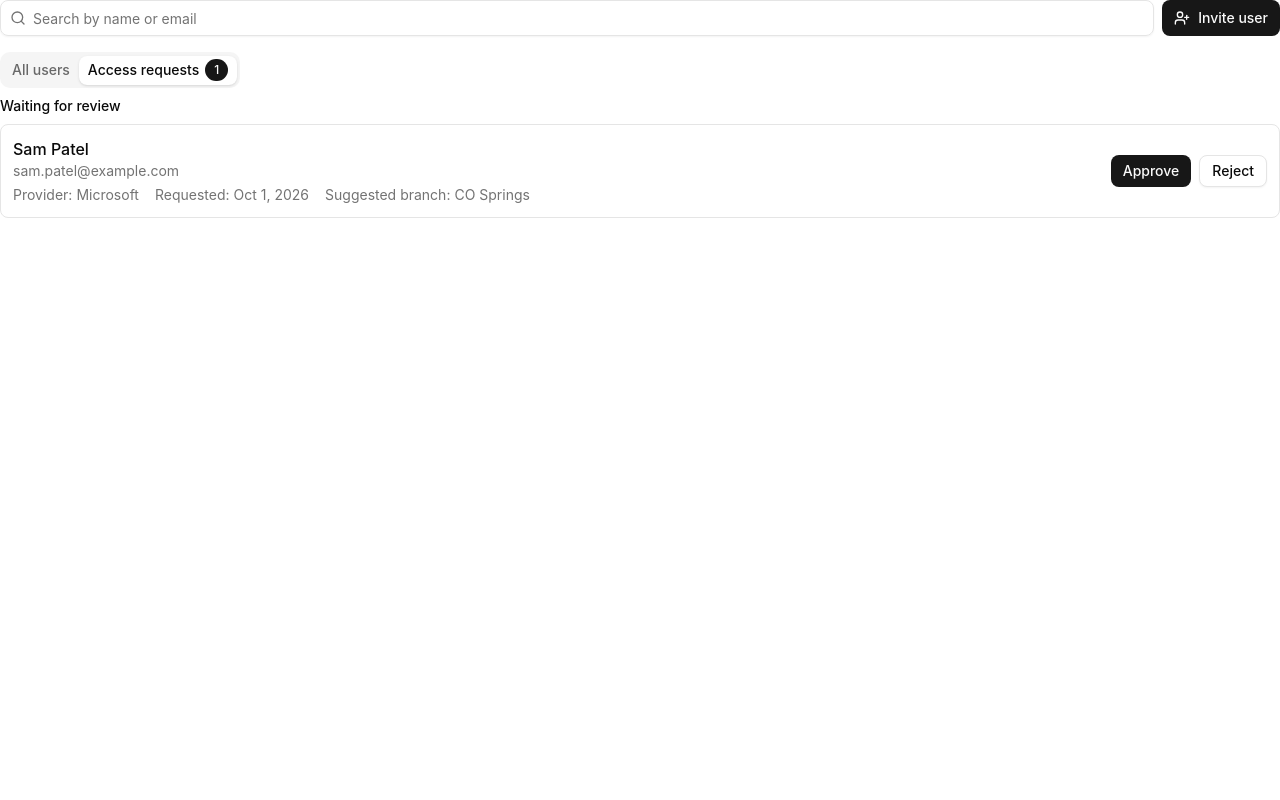
Test: UsersAdmin › approves with the chosen role and the pre-filled branch
Click the button with aria-label "Approve Sam Patel".
click(1151, 171)  # box top-left (1111, 155), bottom-right (1191, 187)
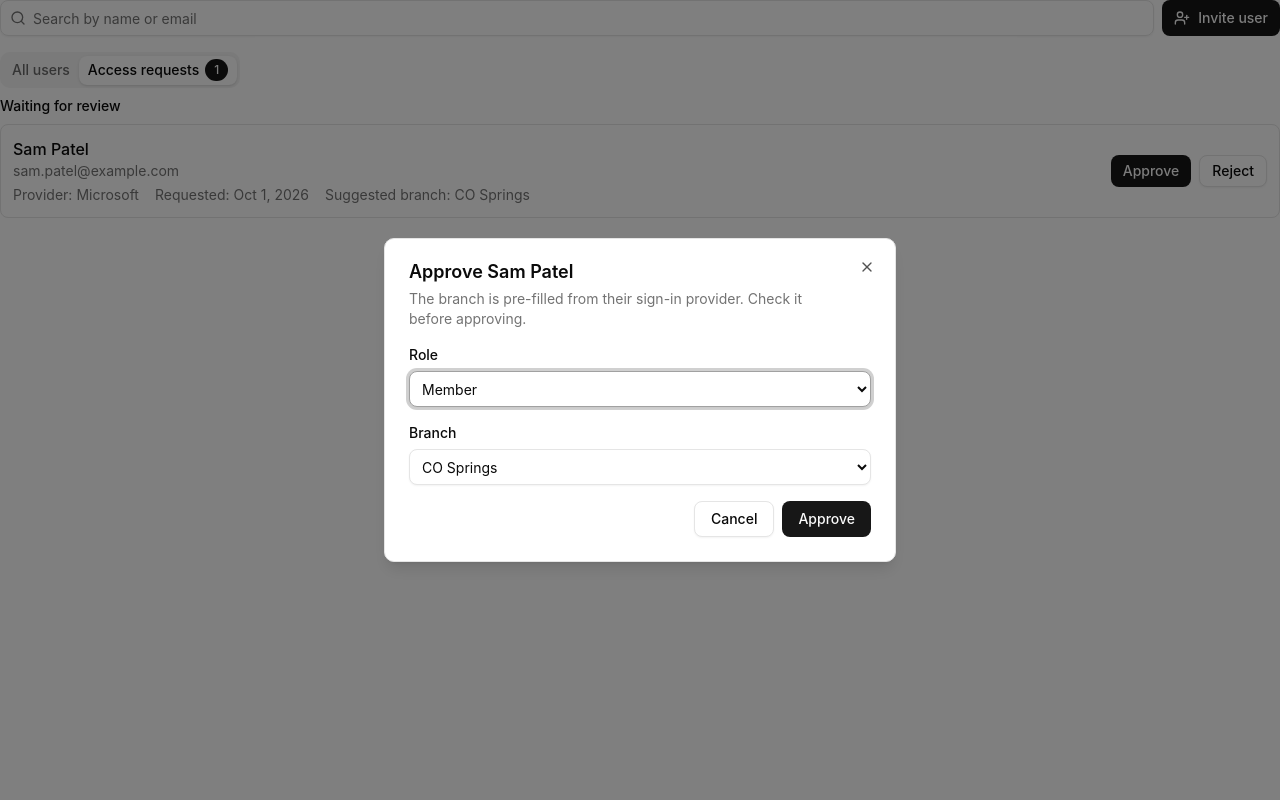
Expected: the dropdown labelled "Branch" shows "CO Springs", top-left (409, 449), bottom-right (871, 485)
Select "Contributor" in the dropdown labelled "Role" at point(640, 389), box top-left (409, 371), bottom-right (871, 407)
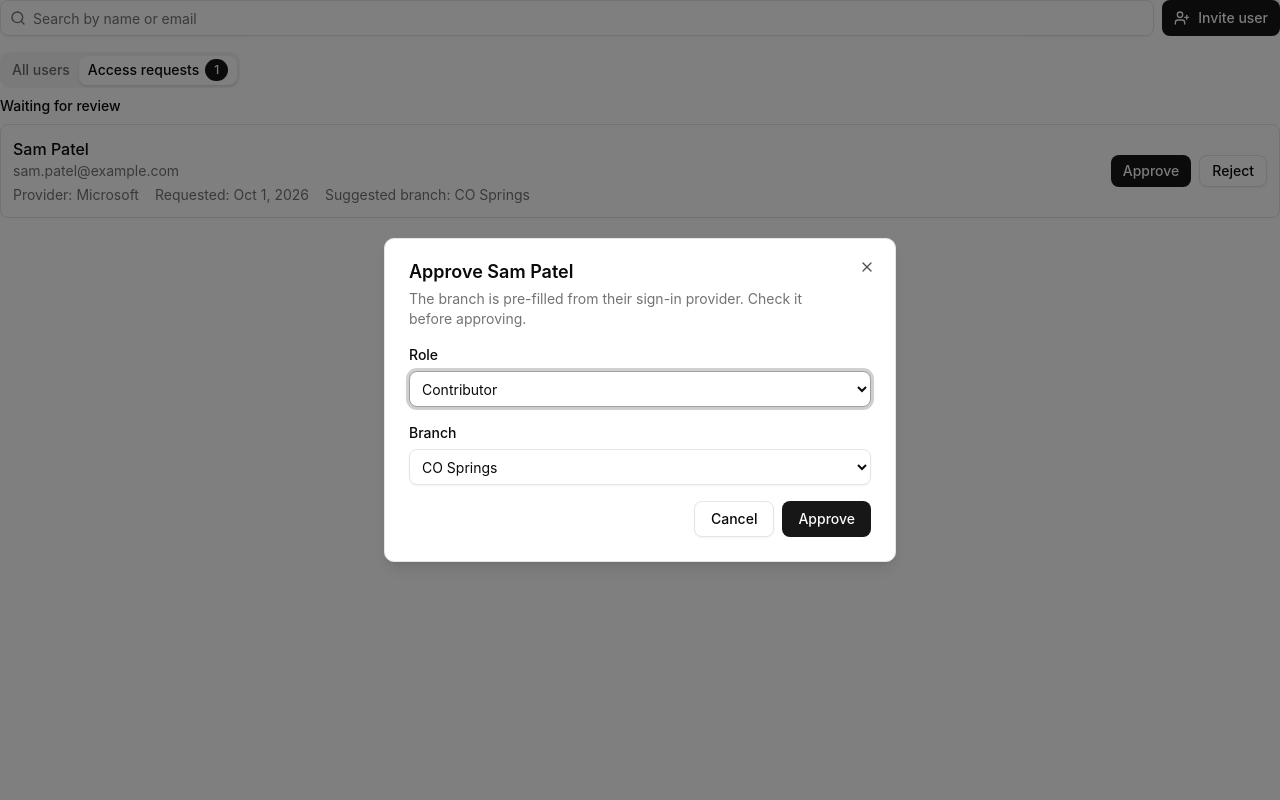
Click the button "Approve".
click(827, 519)  # box top-left (782, 501), bottom-right (871, 537)
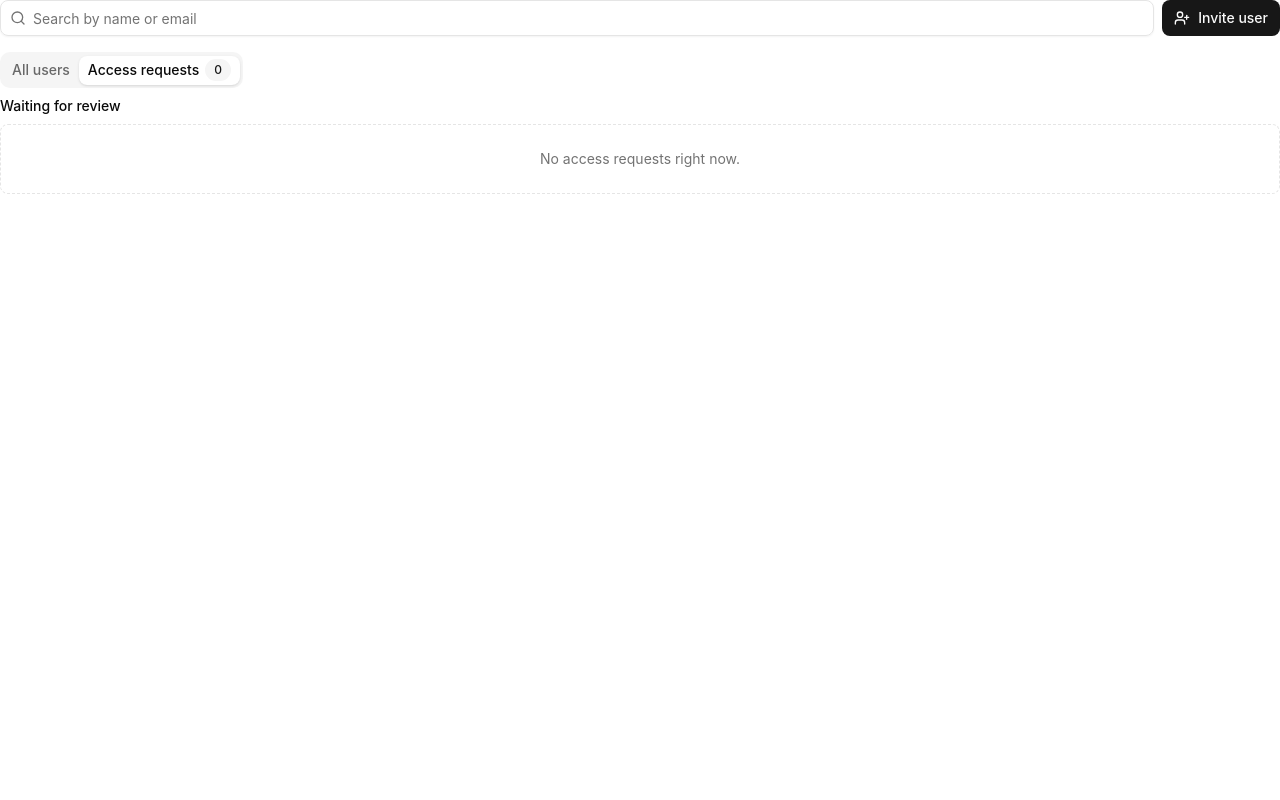
Expected: the dialog is gone
Expected: the text "No access requests right now." is shown, top-left (0, 124), bottom-right (1279, 194)
